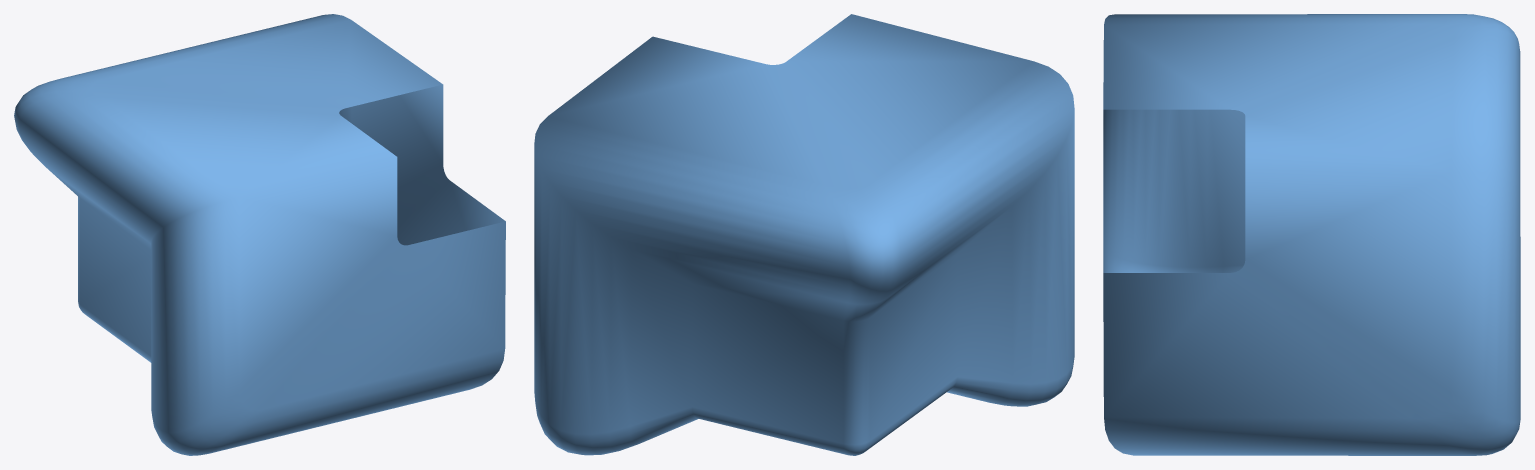
The picture shows the model from 3 angles, left to right: view 1: azimuth 30°, elevation 25°; view 2: azimuth 150°, elevation 25°; view 3: azimuth 270°, elevation 25°; orthographic projection. The views are drawn at different scales.
Parts seen in each view (by area): view 1: Siklomatik; view 2: Siklomatik; view 3: Siklomatik.
Boxes of the visible parts, bbox=[...] form: Siklomatik: bbox=[14, 14, 505, 455]; Siklomatik: bbox=[534, 14, 1074, 455]; Siklomatik: bbox=[1103, 14, 1520, 455].
Size of the model in its own units: 44.08 by 35.47 by 44.08.
